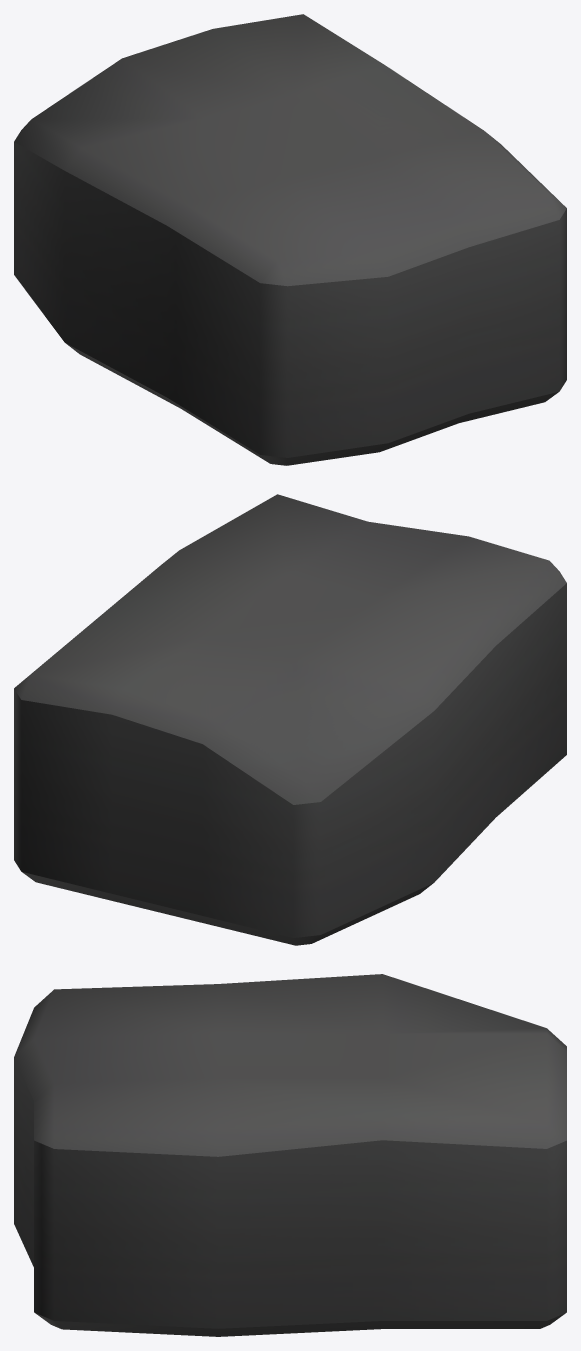
File: StoneBlock_1_3.glb
3 renders of one model, top to bottom at view 1: azimuth 30°, elevation 25°; view 2: azimuth 150°, elevation 25°; view 3: azimuth 270°, elevation 25°, orthographic.
Visible parts, largest first — view 1: StoneBlock_1_3; view 2: StoneBlock_1_3; view 3: StoneBlock_1_3.
Part boxes in pixels (x1=…): StoneBlock_1_3: x1=14, y1=14, x2=566, y2=465; StoneBlock_1_3: x1=14, y1=494, x2=566, y2=945; StoneBlock_1_3: x1=14, y1=974, x2=566, y2=1336.
Bounding box in the file's own units: 0.5361 × 0.3093 × 0.7236.
Materials: 1 (1 with a texture image).
